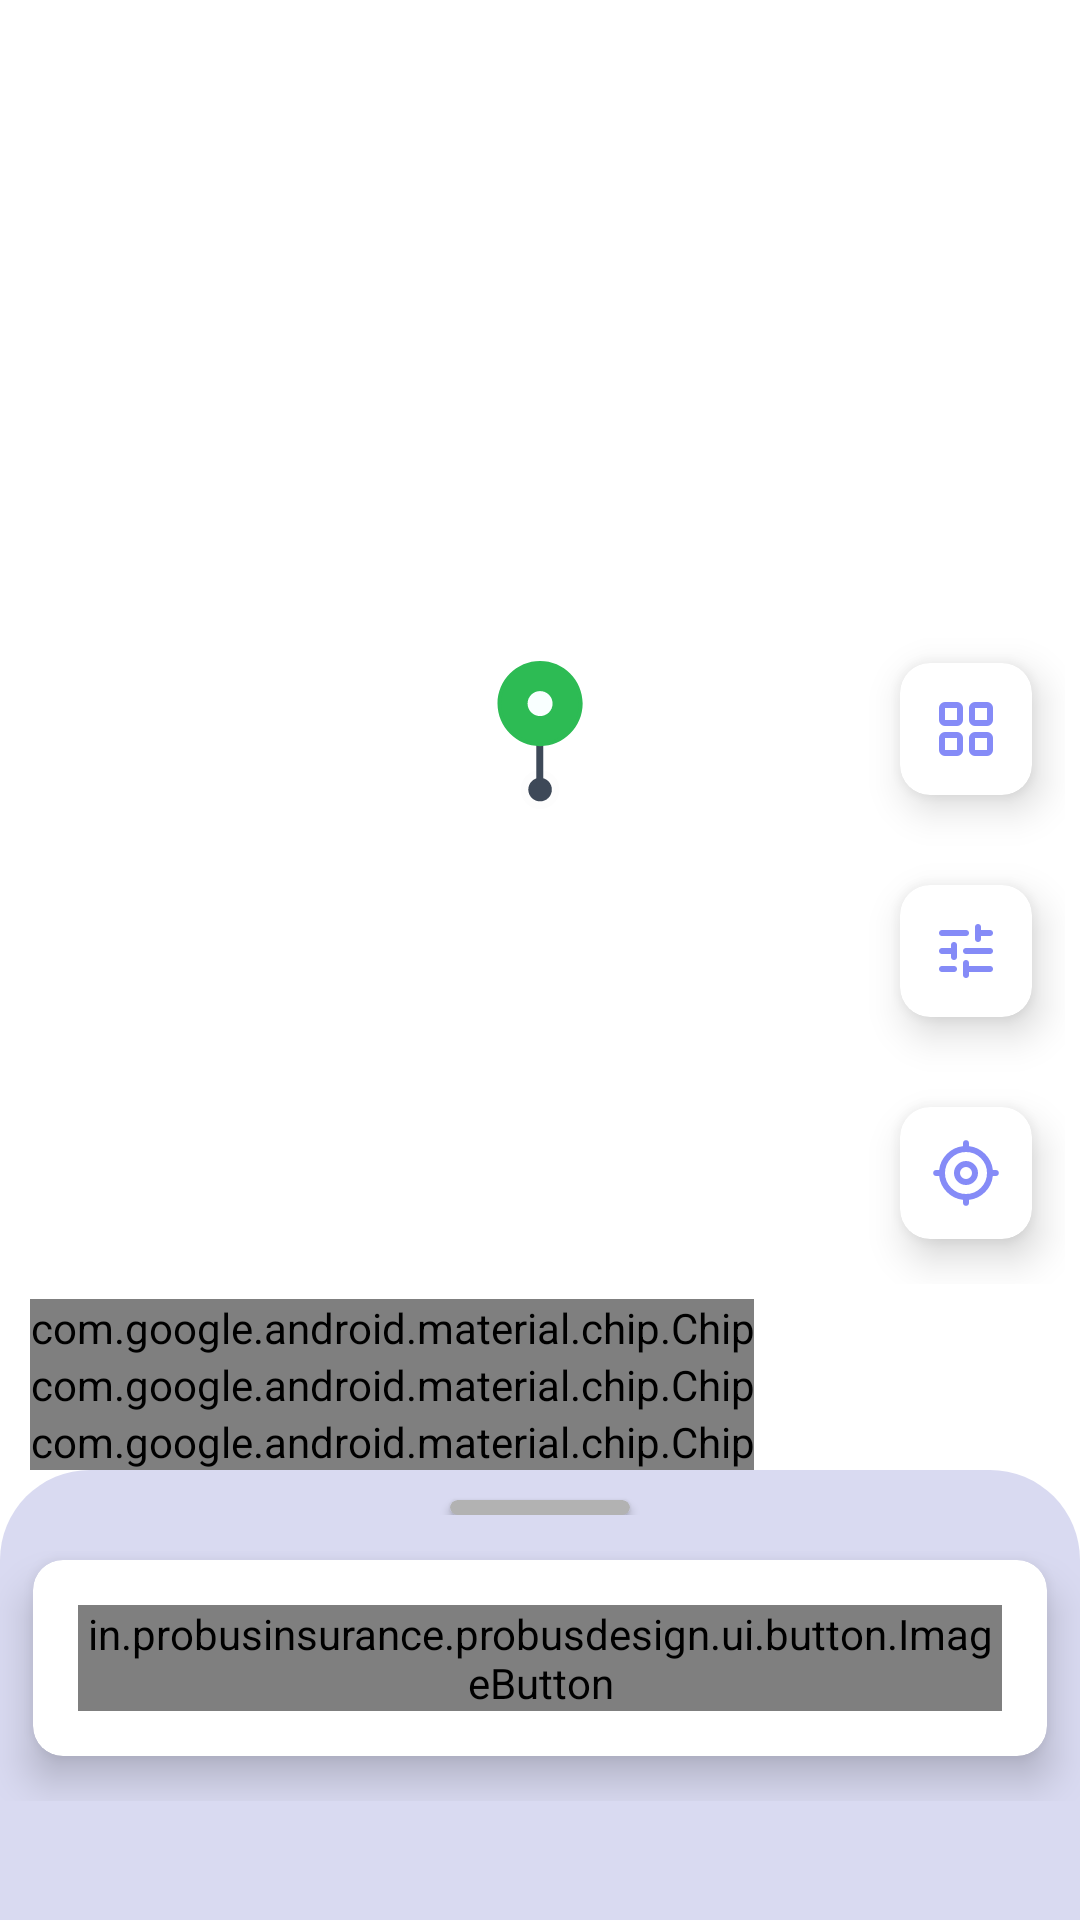

Icon click points for this 1080 × 1920 phone screenshot, format point (x, y):
filter: point (966, 951)
location: point (966, 1173)
option: point (966, 729)
pointer: point (540, 731)
